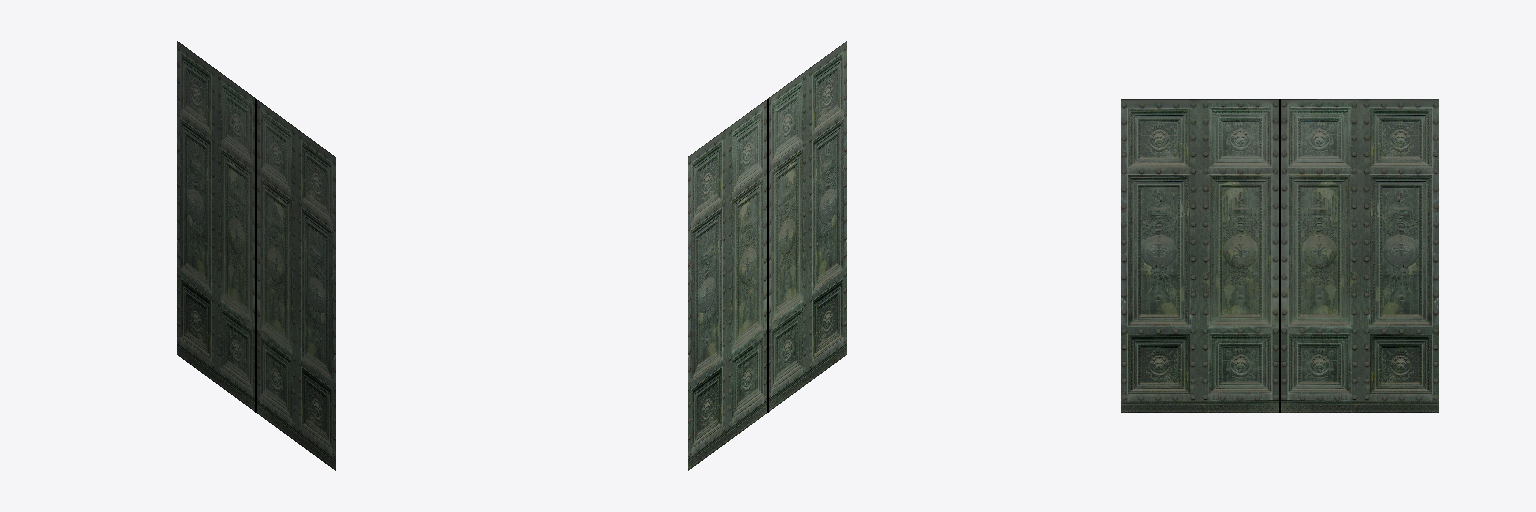
3 renders of one model, left to right at view 1: azimuth 30°, elevation 25°; view 2: azimuth 150°, elevation 25°; view 3: azimuth 270°, elevation 25°, orthographic.
Parts seen in each view (by area): view 1: mesh0; view 2: mesh0; view 3: mesh0.
Part boxes in pixels (bbox=[...]): mesh0: bbox=[177, 41, 335, 470]; mesh0: bbox=[688, 41, 846, 470]; mesh0: bbox=[1121, 99, 1438, 412].
Size of the model in its own units: 0.0191 by 5.33 by 4.9.
Materials: 1 (1 with a texture image).